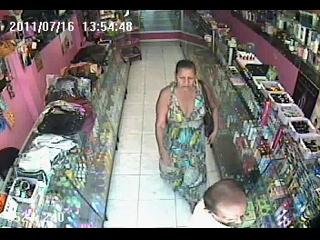Normal: (155, 59, 220, 212), (186, 178, 249, 228)
